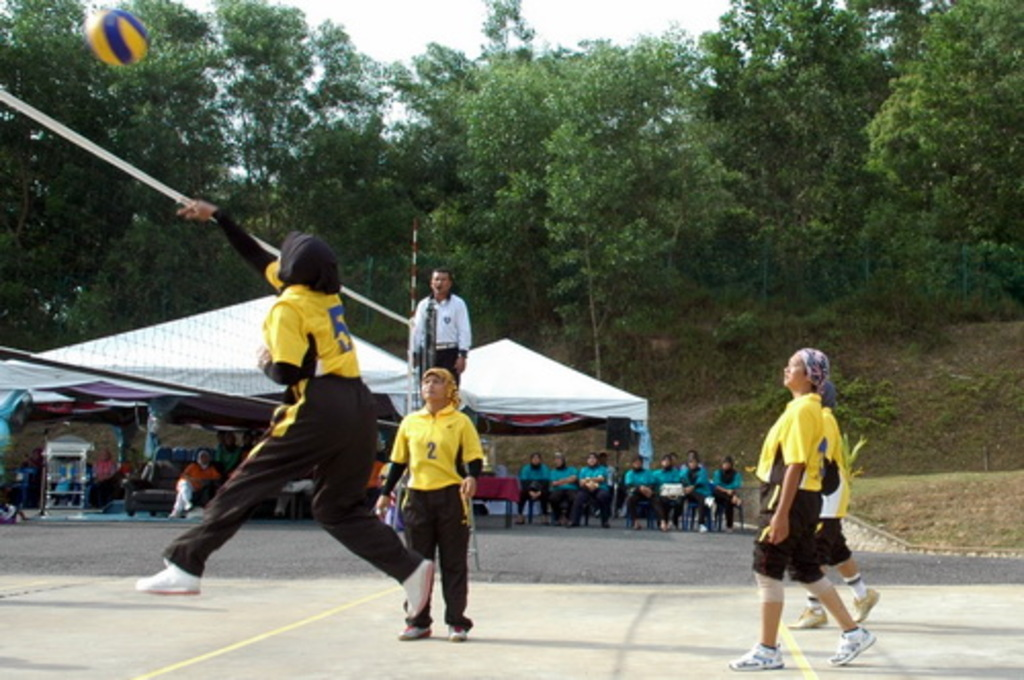Person: (133, 202, 440, 622), (727, 346, 876, 676), (375, 366, 487, 644), (791, 379, 884, 629), (510, 448, 747, 540), (400, 266, 479, 391), (171, 450, 222, 519)
